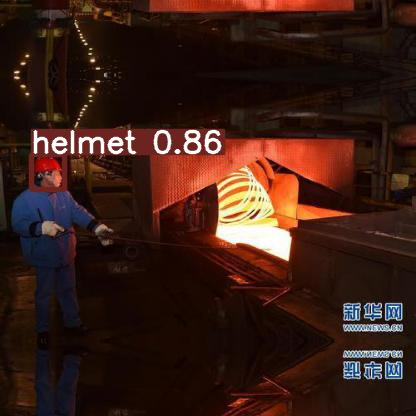helmet: (31, 154, 64, 189)
